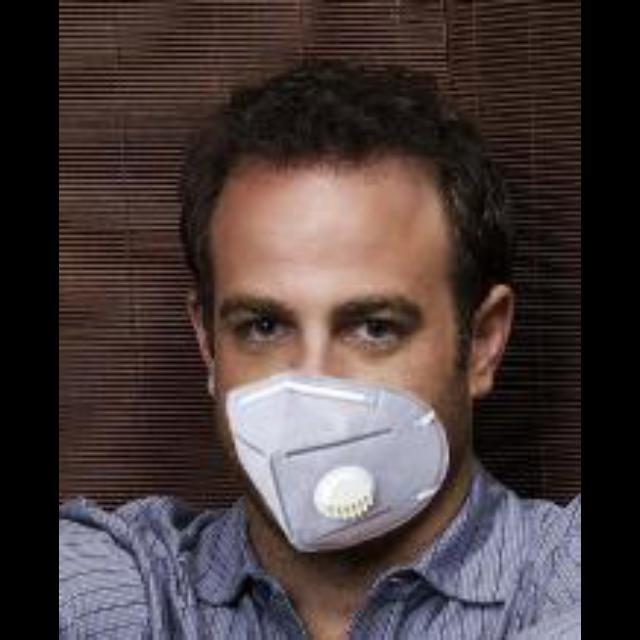suspicion: (231, 140, 504, 560)
